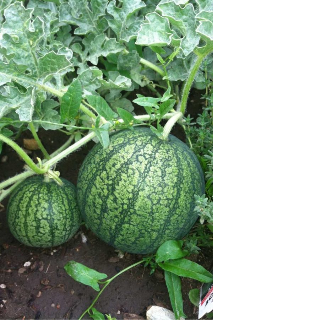dua_hau: (76, 120, 204, 255), (5, 173, 87, 251)
